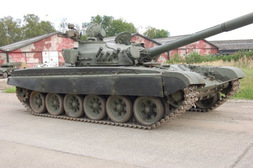t72: (6, 13, 252, 133)
